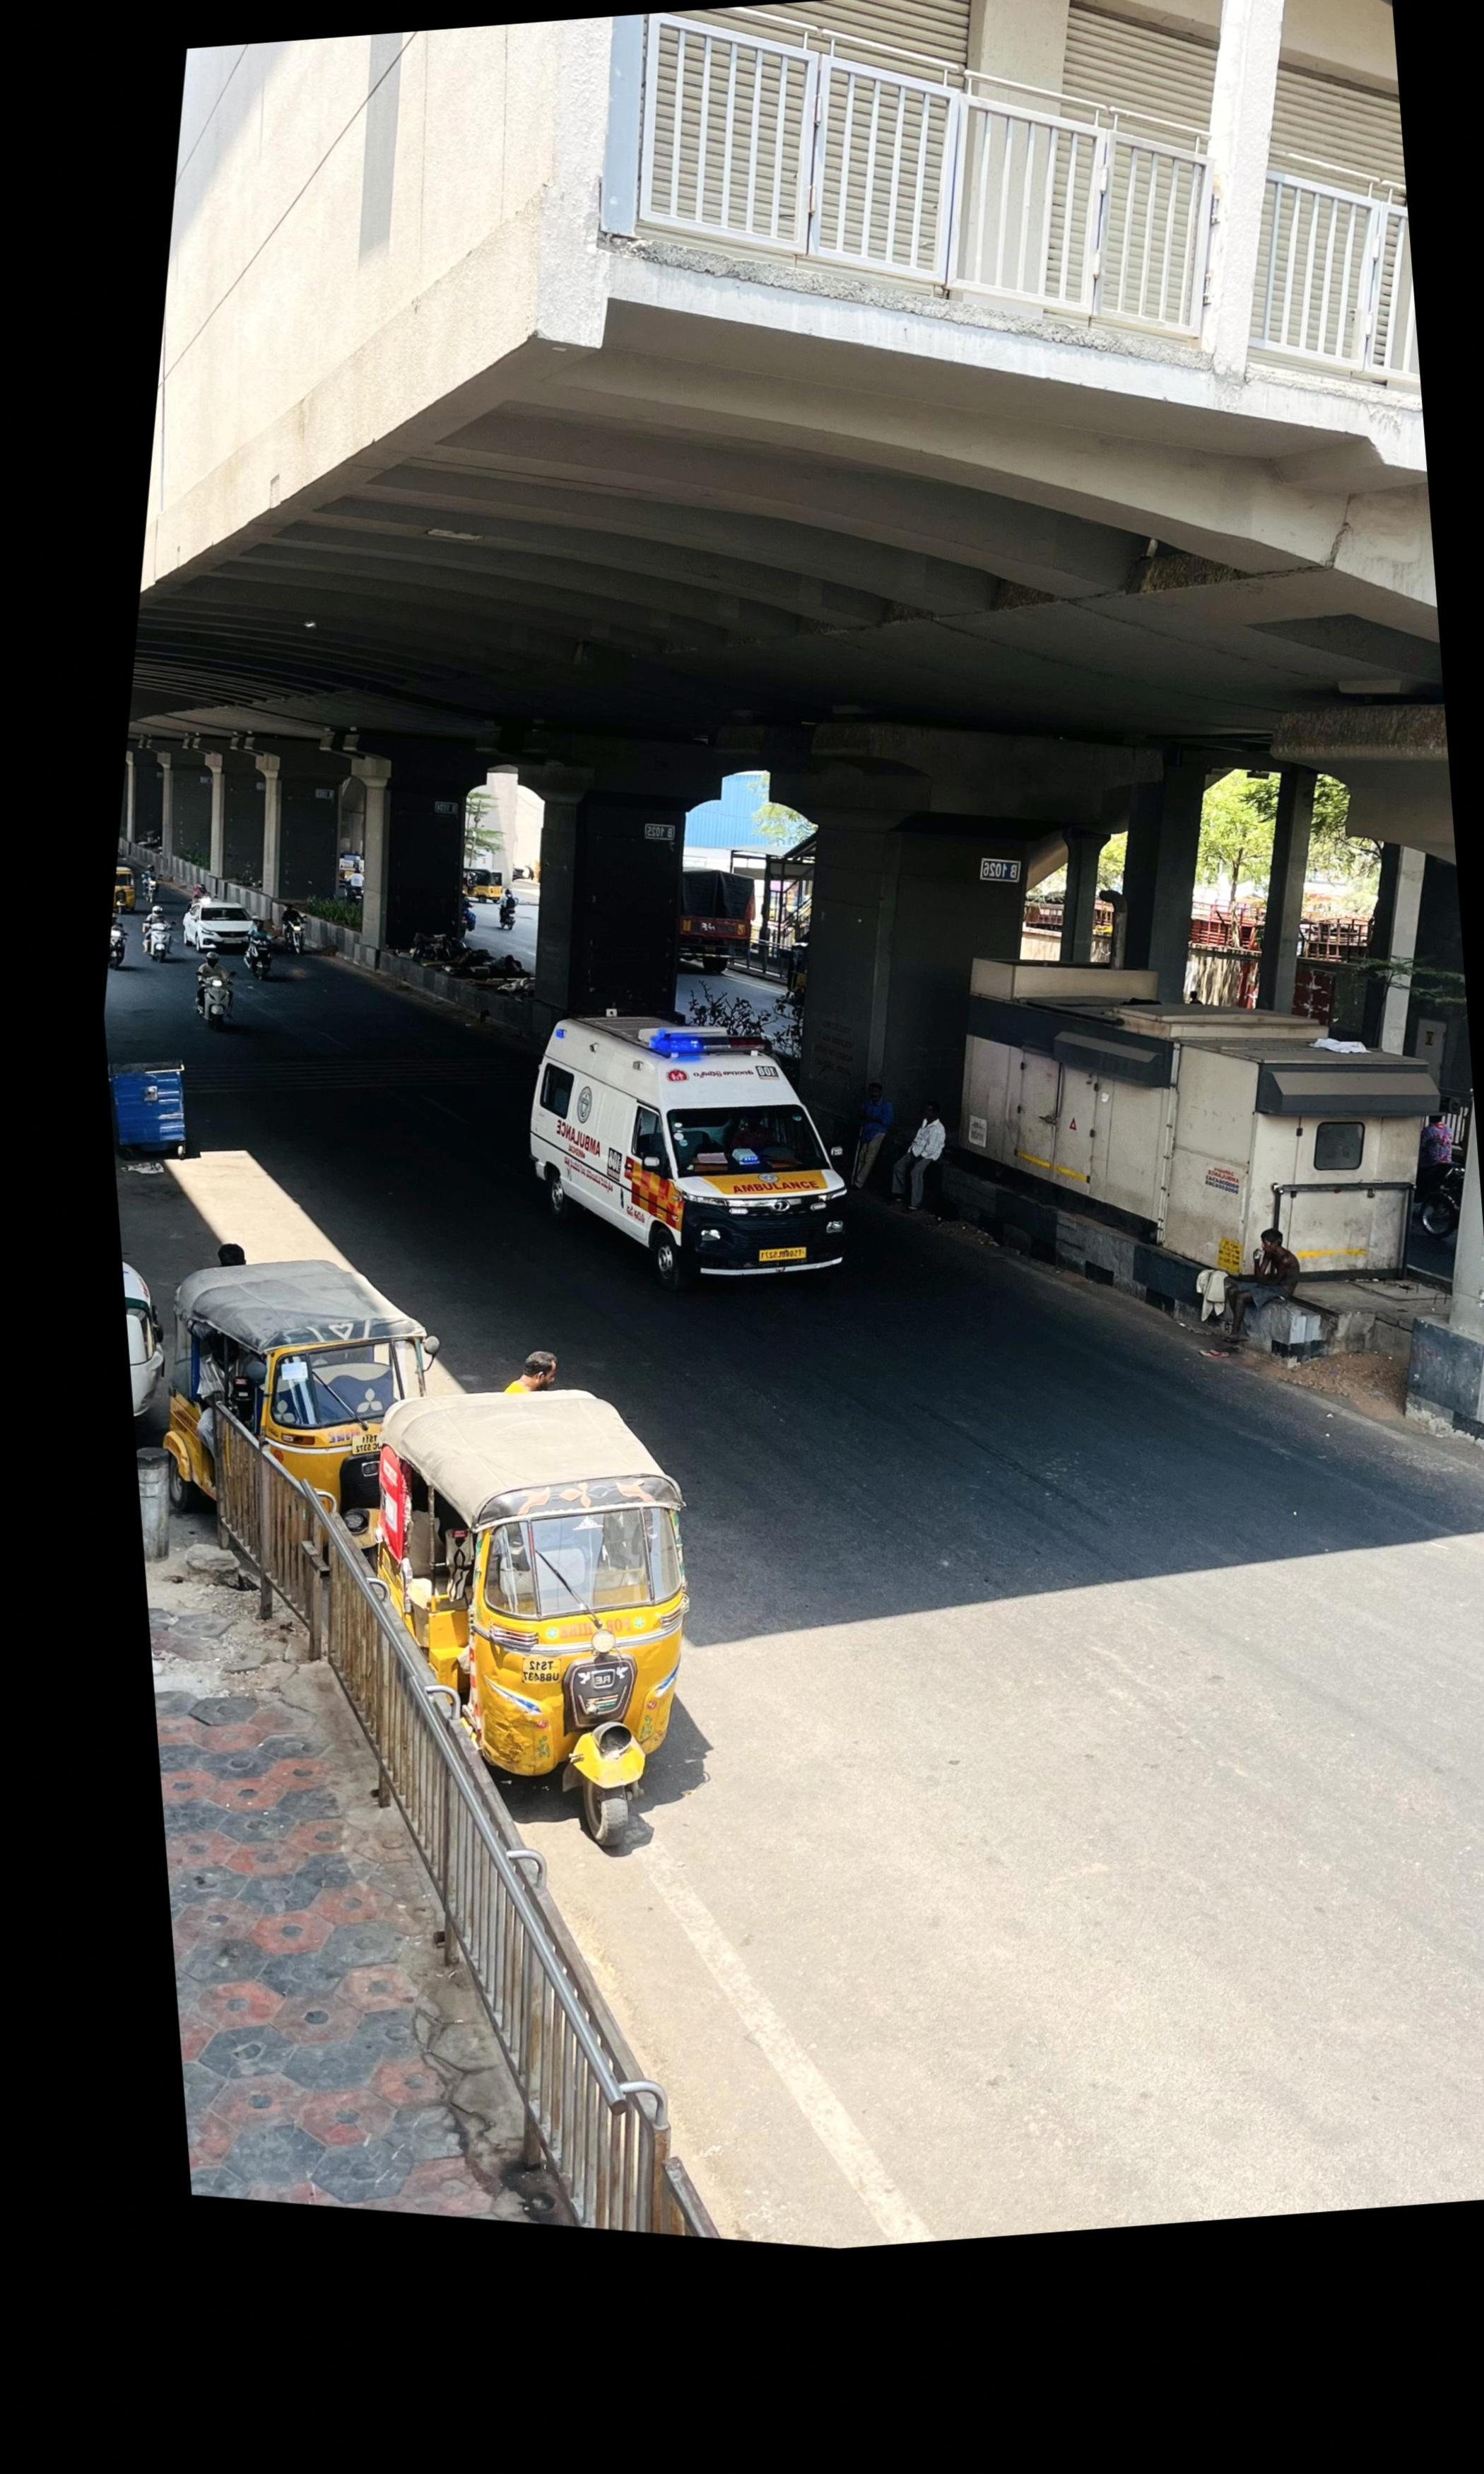ambulance: (525, 1009, 853, 1295)
